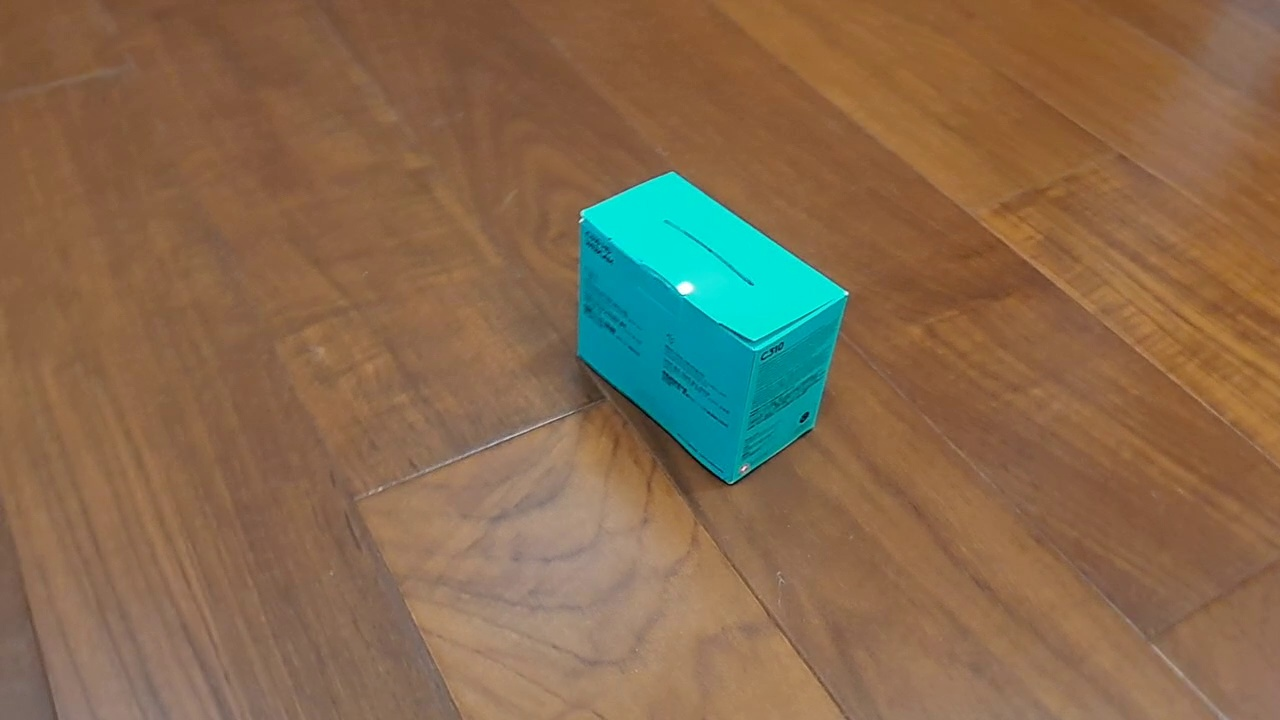webcam: (575, 169, 852, 488)
